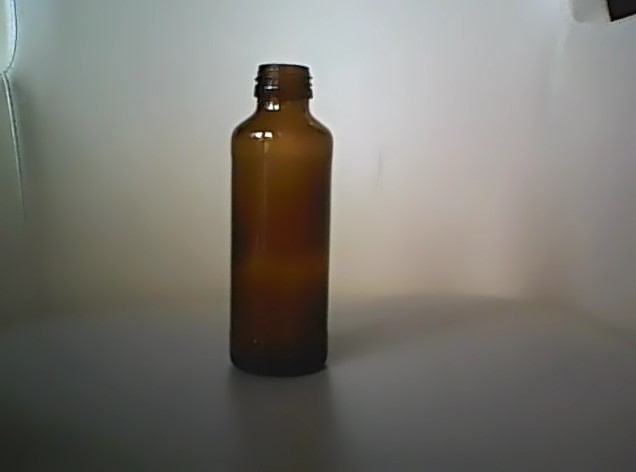Glass: (226, 58, 335, 383)
